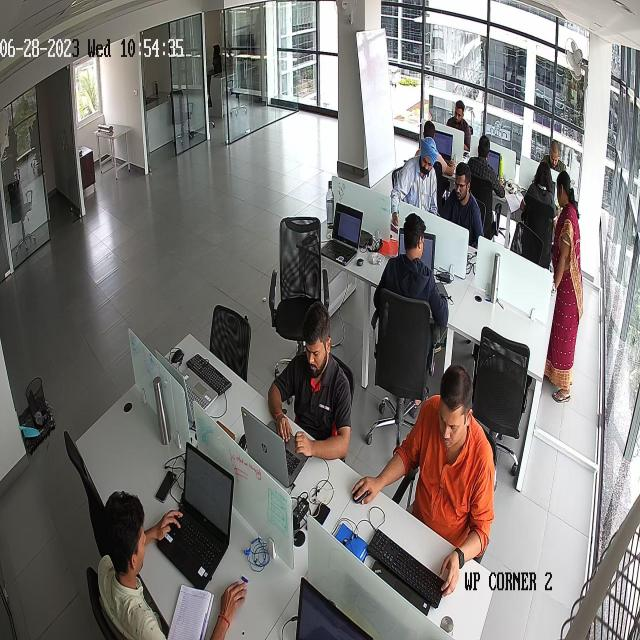chair: (264, 205, 332, 342), (205, 294, 258, 382), (67, 431, 109, 542), (84, 554, 112, 640)
keyboard: (362, 515, 448, 600), (190, 342, 234, 397)
laptop: (158, 438, 237, 580), (236, 401, 314, 485), (355, 545, 433, 618), (146, 348, 220, 418), (320, 197, 366, 283), (392, 219, 438, 272), (433, 127, 459, 169), (486, 140, 502, 180)
person: (413, 352, 508, 563), (104, 460, 174, 640), (272, 304, 348, 467), (545, 169, 584, 402), (379, 214, 429, 370), (440, 165, 480, 309), (395, 138, 437, 225), (522, 160, 554, 260), (470, 138, 494, 228), (445, 101, 470, 158), (544, 140, 567, 196)
phone: (154, 464, 178, 503), (434, 272, 454, 304), (315, 499, 331, 534)
